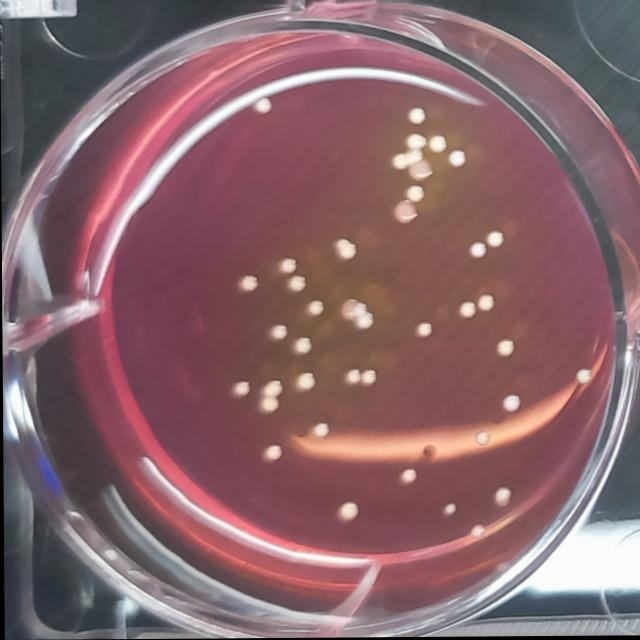StaphyloPositive: (330, 234, 359, 269), (390, 150, 425, 174), (494, 333, 519, 362), (335, 498, 361, 525), (292, 368, 318, 394), (412, 317, 436, 343), (292, 334, 316, 359), (500, 390, 522, 417), (235, 272, 260, 295), (426, 134, 448, 157), (253, 95, 275, 118), (309, 421, 332, 443), (267, 323, 291, 344), (406, 105, 428, 127), (228, 380, 250, 402), (403, 185, 427, 205), (262, 444, 286, 464), (286, 275, 307, 297), (302, 299, 324, 320), (353, 311, 374, 333), (405, 130, 427, 151), (258, 395, 280, 416), (445, 149, 468, 169), (277, 255, 298, 276), (574, 367, 594, 389), (357, 368, 378, 388), (485, 231, 507, 249), (439, 500, 459, 519), (477, 294, 495, 314), (399, 468, 417, 487), (459, 303, 476, 323), (492, 491, 510, 509), (344, 369, 360, 387)
